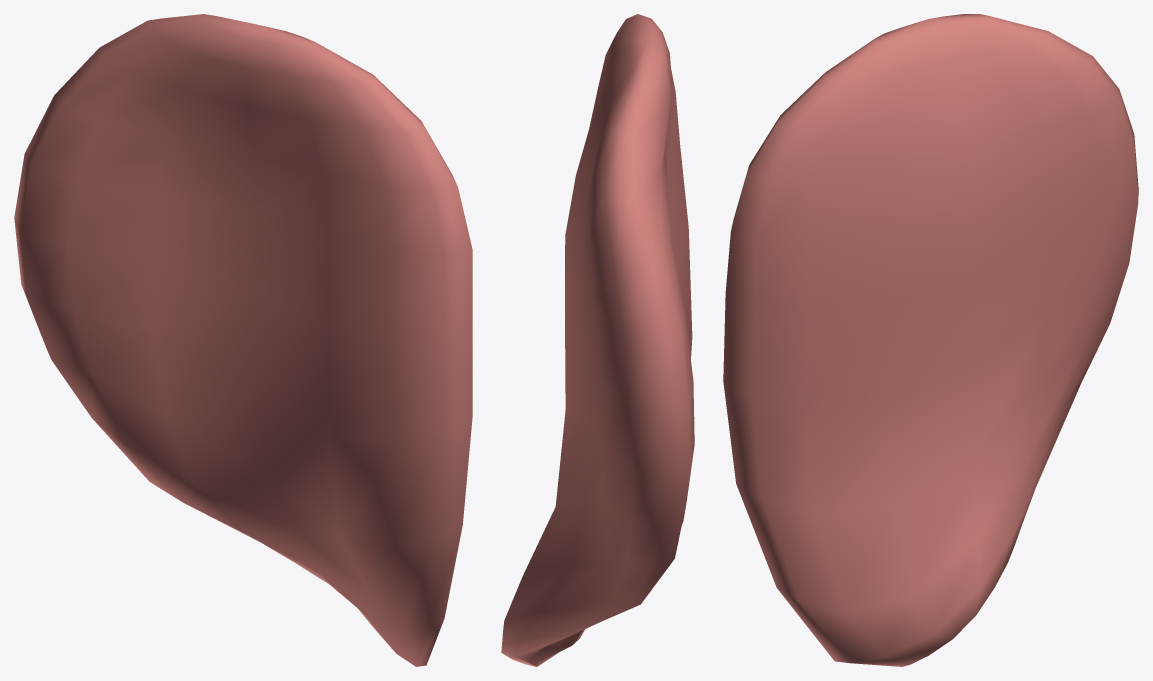
The picture shows the model from 3 angles, left to right: view 1: azimuth 30°, elevation 25°; view 2: azimuth 150°, elevation 25°; view 3: azimuth 270°, elevation 25°; orthographic projection. The views are drawn at different scales.
Visible parts, largest first — view 1: ZA_28b06b37ac5bb860; view 2: ZA_28b06b37ac5bb860; view 3: ZA_28b06b37ac5bb860.
Part boxes in pixels (x1=…): ZA_28b06b37ac5bb860: x1=14, y1=14, x2=472, y2=666; ZA_28b06b37ac5bb860: x1=501, y1=14, x2=694, y2=666; ZA_28b06b37ac5bb860: x1=723, y1=14, x2=1138, y2=666.
Size of the model in its own units: 0.00929 by 0.0208 by 0.0132.
